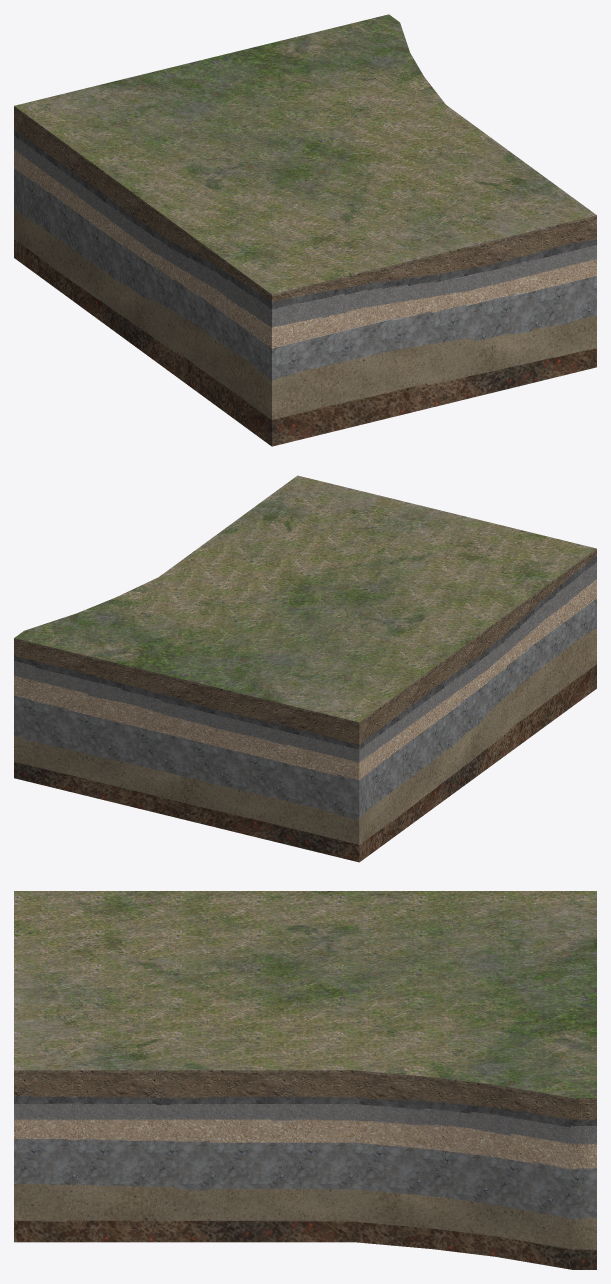
Rendered from dizhi_01.fbx.
3 renders of one model, top to bottom at view 1: azimuth 30°, elevation 25°; view 2: azimuth 150°, elevation 25°; view 3: azimuth 270°, elevation 25°, orthographic. The views are drawn at different scales.
Visible parts, largest first — view 1: dizhi_01; view 2: dizhi_01; view 3: dizhi_01.
Part boxes in pixels (x1,y1,x2,y2): dizhi_01: (14,14,596,446); dizhi_01: (14,475,596,862); dizhi_01: (14,891,596,1269).
Size of the model in its own units: 41964 by 16258 by 49981.
